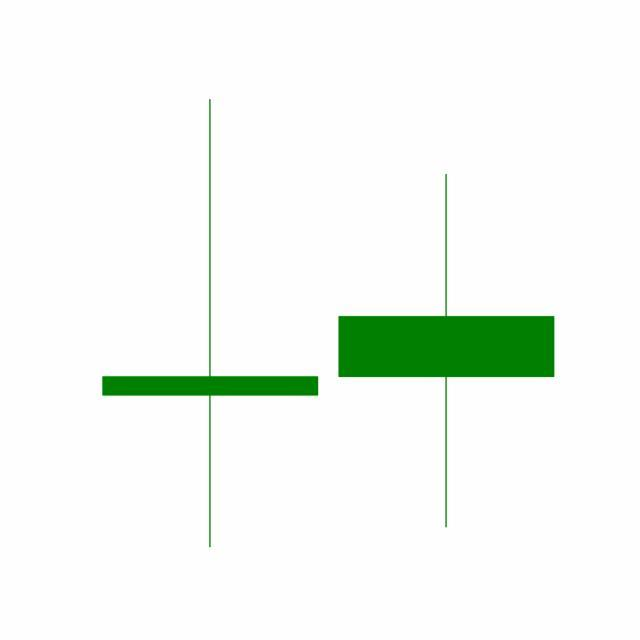Spinning Top: (328, 171, 566, 533)
